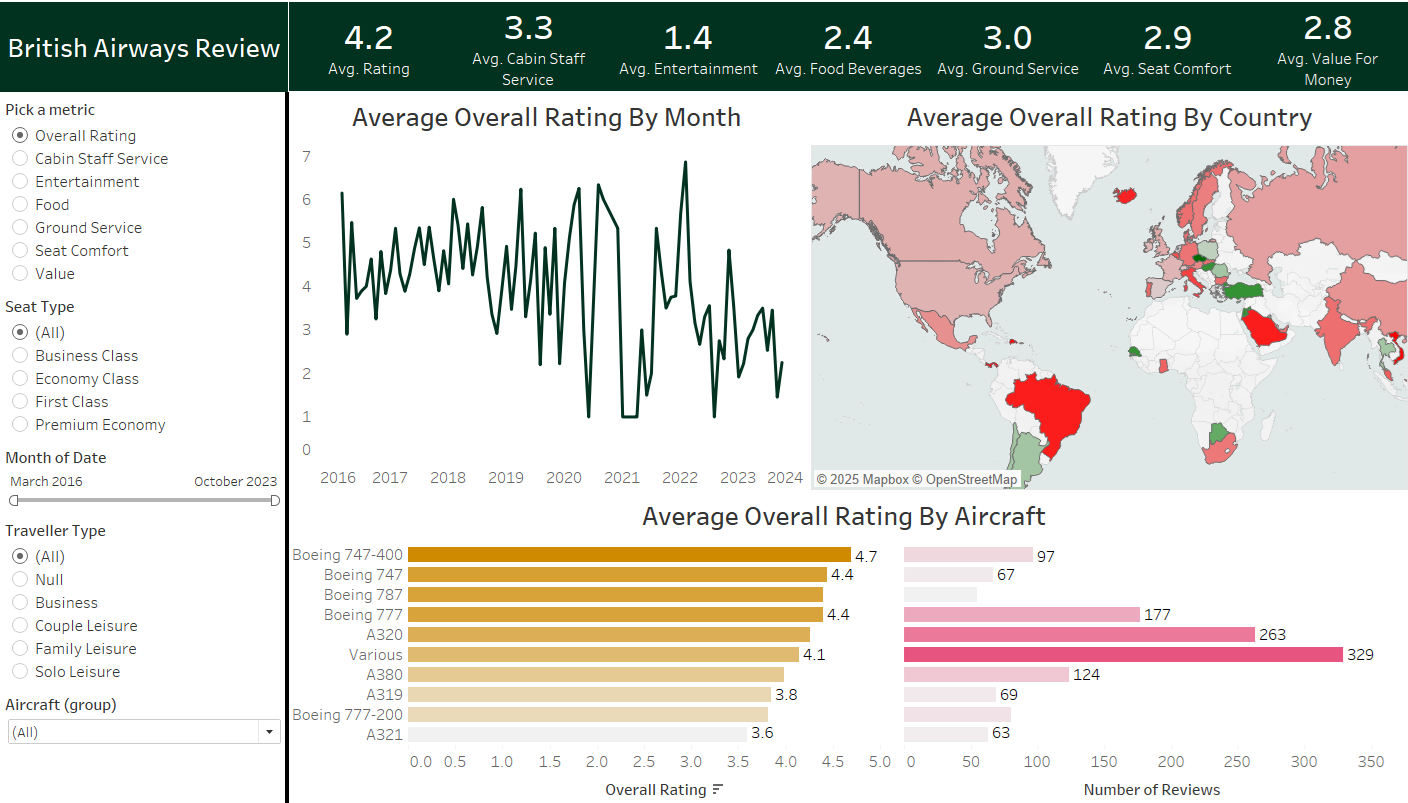

This screenshot's page, from the dashboard's own definition file:
{"tool":"tableau","page":{"name":"Dashboard 1","canvas":[1200,700],"ordinal":0},"visuals":[{"type":"text","box":[0,0,200,100]},{"type":"worksheet","title":"summary","mark":"Automatic","box":[200,0,999,100]},{"type":"blank","box":[200,100,3,600]},{"type":"parameter","param":"[Parameters].[Parameter 1]","box":[0,102,200,133.3]},{"type":"worksheet","title":"Month","mark":"Automatic","rows":["Calculation_467529988195790848"],"cols":["date"],"box":[220,110,444,280]},{"type":"worksheet","title":"Map","mark":"Automatic","box":[675,110,517,280]},{"type":"filter","title":"Map","param":"[federated.1pcnwoo1g4pvph10ksfk00hadk1e].[tmn:date:qk]","box":[0,235.3,200,73]},{"type":"filter","title":"Map","param":"[federated.1pcnwoo1g4pvph10ksfk00hadk1e].[none:seat_type:nk]","box":[0,308.3,200,133.3]},{"type":"worksheet","title":"Aircraft","mark":"Automatic","cols":["Calculation_467529988195790848","ba_reviews.csv_693B5AD7C0CC43C9AB5E245D8FB67E5F"],"box":[220,395,971,300]},{"type":"filter","title":"Map","param":"[federated.1pcnwoo1g4pvph10ksfk00hadk1e].[none:traveller_type:nk]","box":[0,441.7,200,133.3]},{"type":"filter","title":"Map","param":"[federated.1pcnwoo1g4pvph10ksfk00hadk1e].[Aircraft (group)]","box":[0,575,200,61]},{"type":"filter","title":"Map","param":"[federated.1pcnwoo1g4pvph10ksfk00hadk1e].[none:Continent:nk]","box":[0,636,200,61]}]}

Visuals, with their boxes in screenshot pixels (x1, y1, x2, y2), scaled from the page's 1200x700 canvas onto the 1408x803 screenshot:
text: rect(0, 0, 235, 115)
"summary" worksheet: rect(235, 0, 1407, 115)
blank: rect(235, 115, 238, 802)
parameter: rect(0, 117, 235, 270)
"Month" worksheet: rect(258, 126, 779, 447)
"Map" worksheet: rect(792, 126, 1399, 447)
"Map" filter: rect(0, 270, 235, 354)
"Map" filter: rect(0, 354, 235, 507)
"Aircraft" worksheet: rect(258, 453, 1397, 797)
"Map" filter: rect(0, 507, 235, 660)
"Map" filter: rect(0, 660, 235, 730)
"Map" filter: rect(0, 730, 235, 800)
